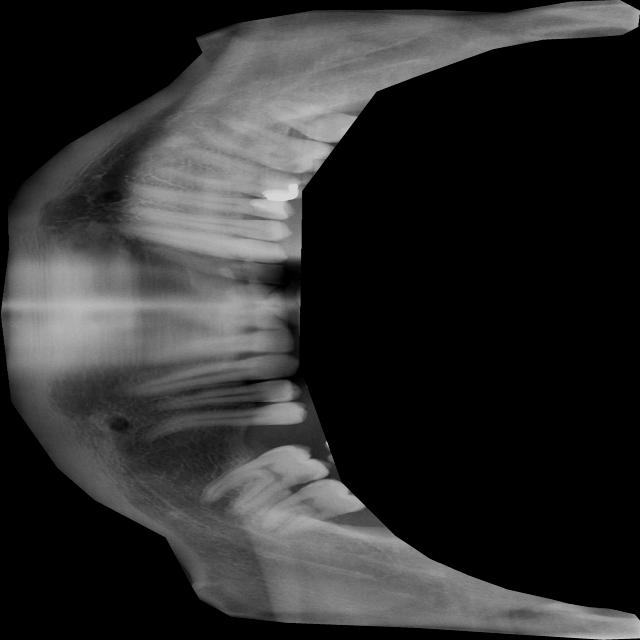mandibula: (0, 0, 639, 640)
